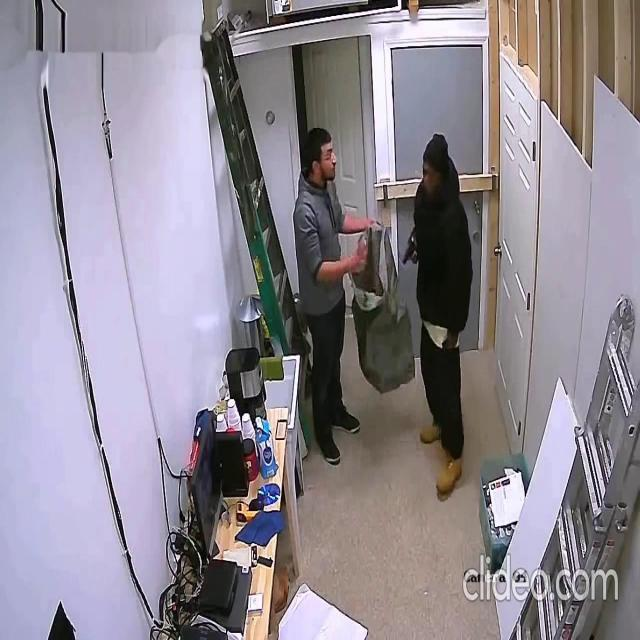pistol: (402, 237, 416, 266)
